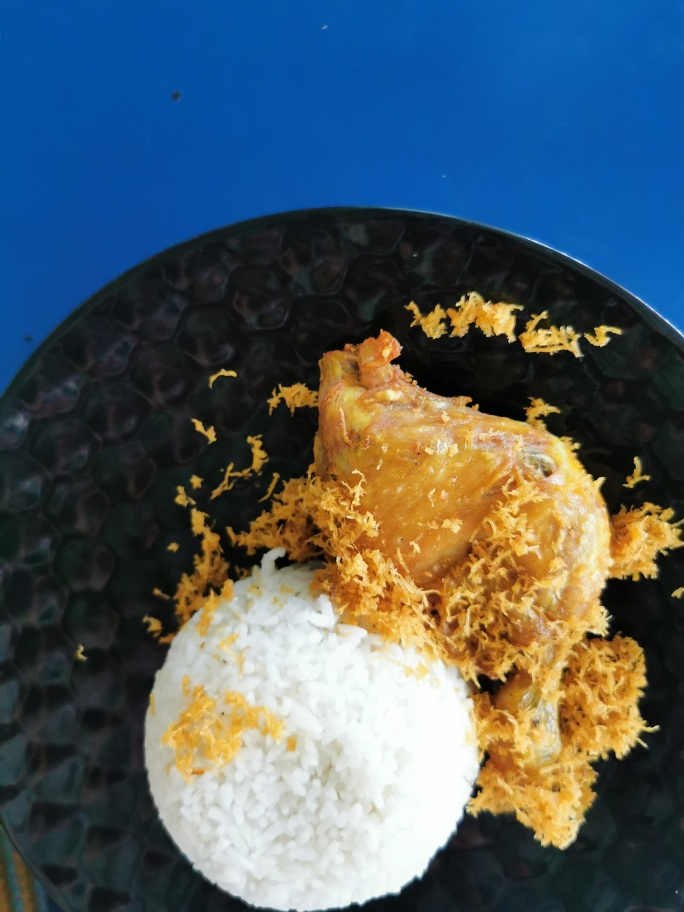ayam goreng: (287, 315, 632, 851)
nasi putih: (156, 560, 486, 912)
